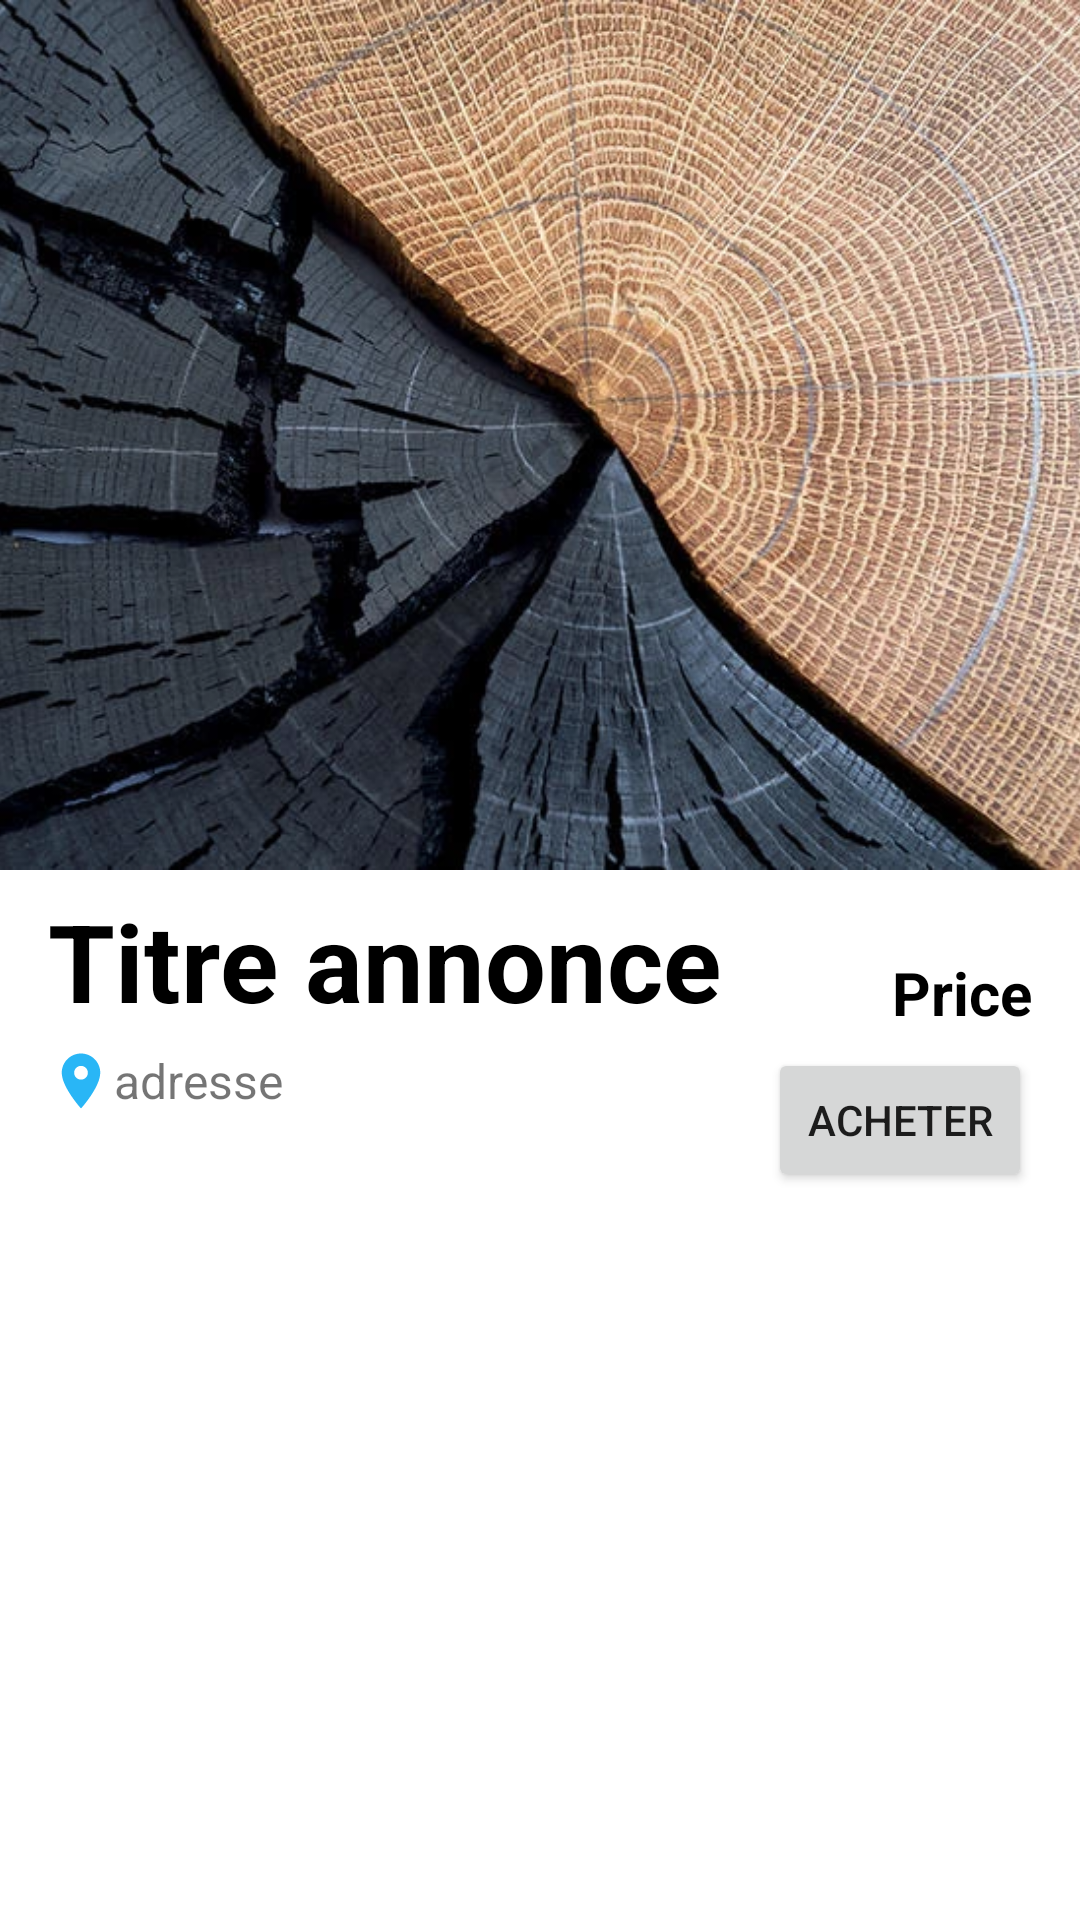

Icons on this 1080px×1920px Android screen, each with its box as (x1, y1, x2, y2):
place: (61, 1053, 101, 1108)
